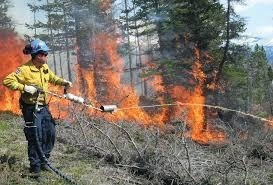fire: (67, 25, 217, 136)
